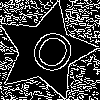O: (21, 26, 80, 86)
